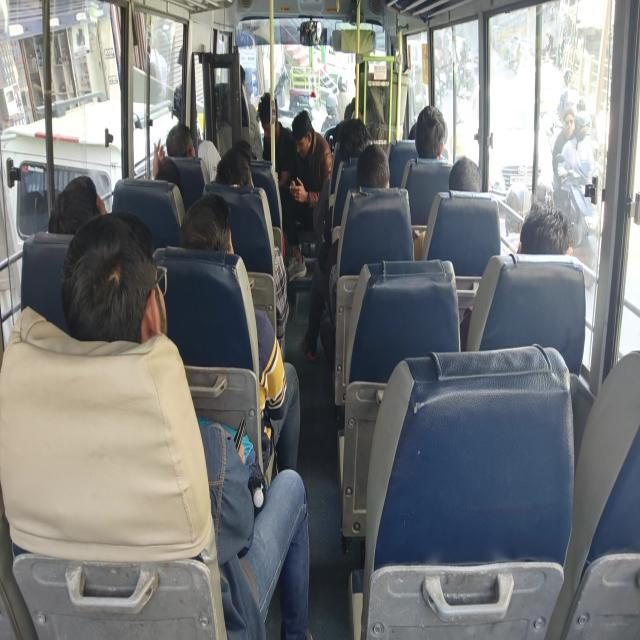person: (74, 212, 173, 366), (188, 206, 246, 272), (519, 206, 577, 265), (43, 173, 97, 230), (0, 275, 27, 367), (352, 146, 388, 207), (449, 155, 491, 204), (416, 104, 450, 159), (256, 90, 284, 139), (220, 154, 246, 198), (166, 127, 201, 158), (229, 134, 268, 161), (344, 125, 368, 167), (153, 156, 184, 186), (291, 113, 308, 157), (334, 119, 354, 147), (411, 121, 426, 140)
